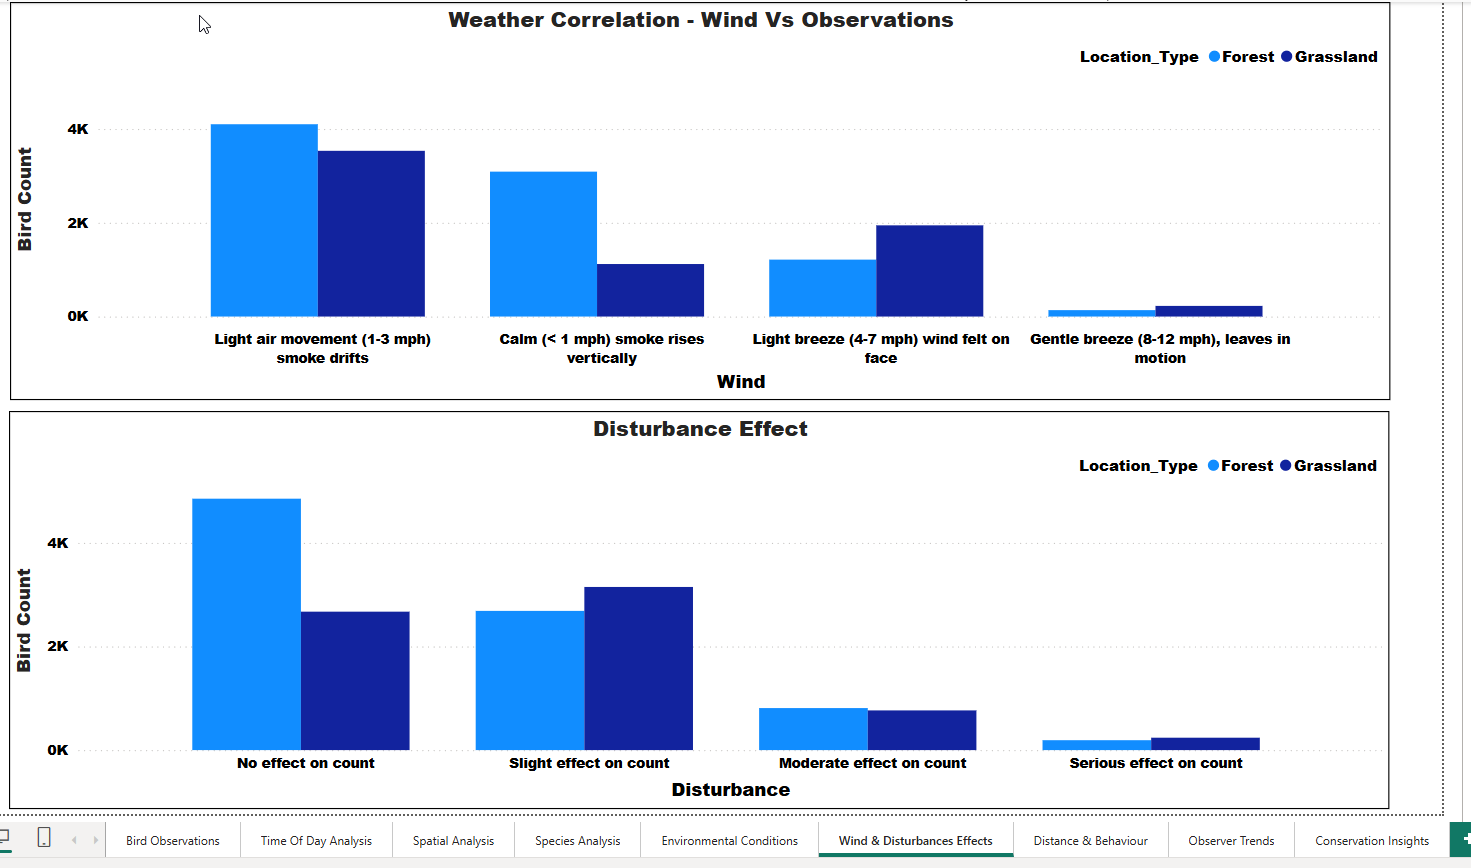

The page's visual inventory and layout, read from the dashboard file:
{"tool":"powerbi","page":{"name":"Wind & Disturbances Effects","canvas":[1280,720],"ordinal":5},"visuals":[{"type":"clusteredColumnChart","title":"Weather Correlation - Wind Vs Observations","fields":{"Category":["birdobservation_db wind_lookup.Wind_Description"],"Y":["CountNonNull(All_Bird_Observations.Observation_ID)"],"Series":["All_Bird_Observations.Location_Type"]},"box":[10.4,0,1223.9,353.2],"z":0},{"type":"clusteredColumnChart","title":"Disturbance Effect","fields":{"Category":["birdobservation_db disturbance_lookup.Disturbance_Description"],"Y":["CountNonNull(All_Bird_Observations.Observation_ID)"],"Series":["All_Bird_Observations.Location_Type"]},"box":[10,363,1224,353],"z":1000}]}

Visuals, with their boxes in screenshot pixels (x1, y1, x2, y2):
"Weather Correlation - Wind Vs Observations" clusteredColumnChart: [x1=4, y1=0, x2=1391, y2=396]
"Disturbance Effect" clusteredColumnChart: [x1=4, y1=408, x2=1391, y2=808]
